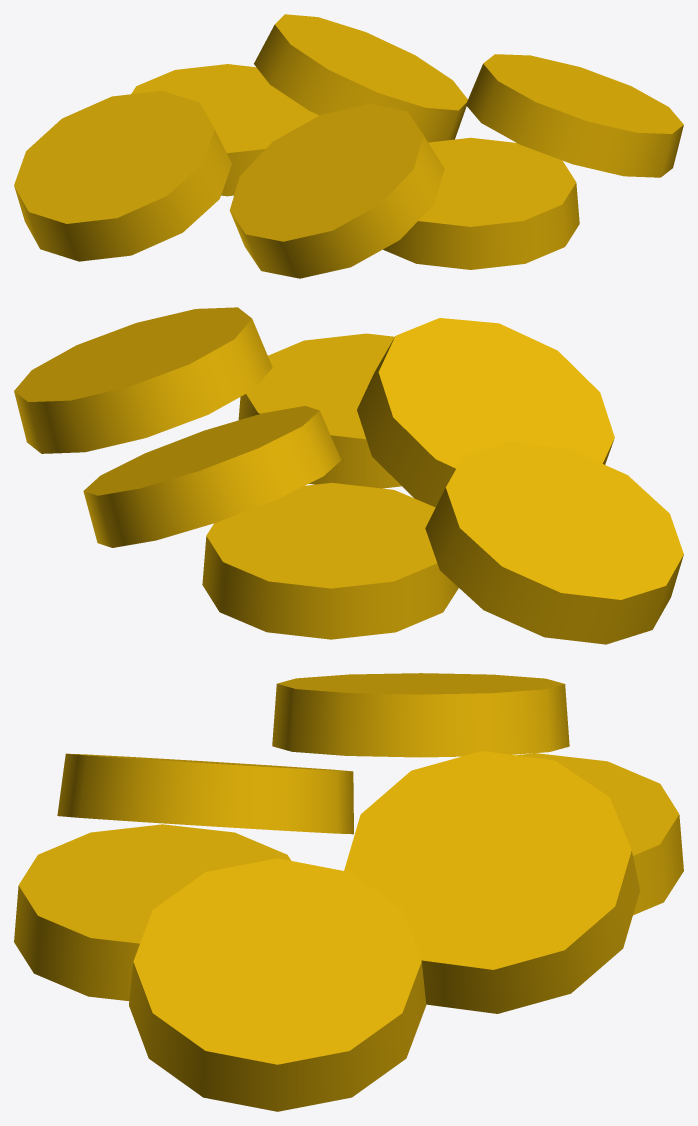
File: SM_CarrotSlice3.fbx
3 renders of one model, top to bottom at view 1: azimuth 30°, elevation 25°; view 2: azimuth 150°, elevation 25°; view 3: azimuth 270°, elevation 25°, orthographic. The views are drawn at different scales.
Visible parts, largest first — view 1: polySurface8; view 2: polySurface8; view 3: polySurface8.
Part boxes in pixels (x1=…): polySurface8: x1=14, y1=14, x2=683, y2=278; polySurface8: x1=14, y1=307, x2=683, y2=644; polySurface8: x1=14, y1=673, x2=683, y2=1111.
Size of the model in its own units: 152 by 30.05 by 110.
